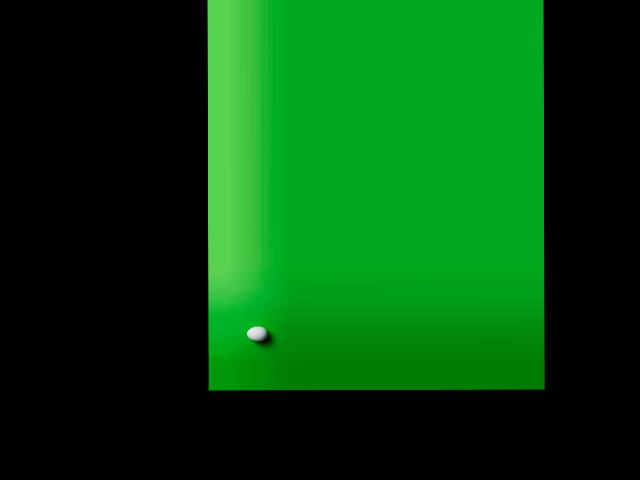egg: (247, 326, 268, 341)
